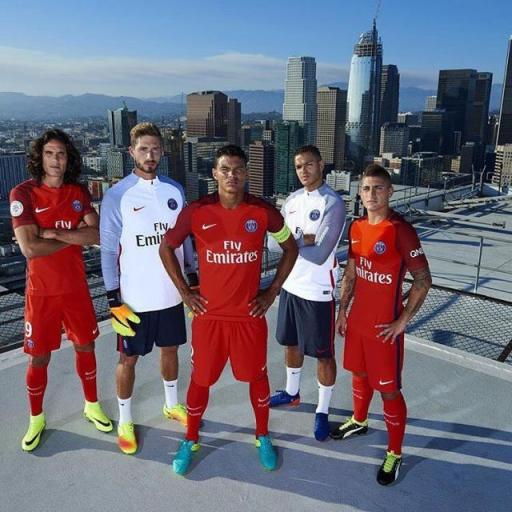Emirates: (202, 238, 261, 266), (354, 256, 393, 287), (134, 222, 176, 246)
